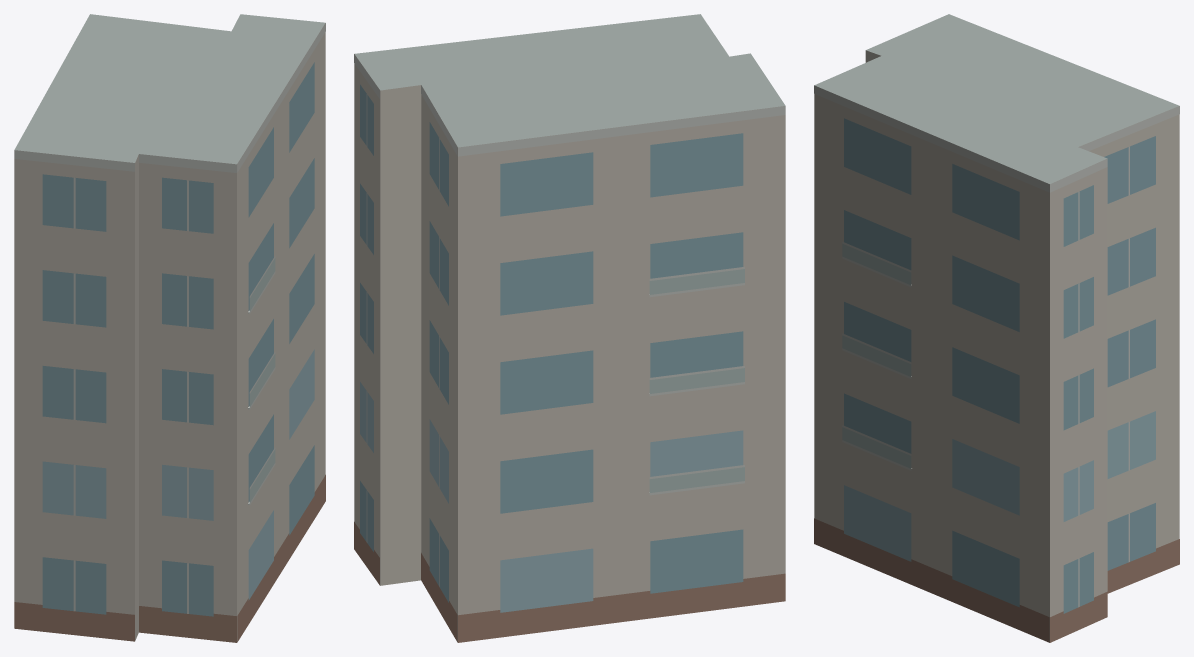
The model's file is survey-upis-32972527.glb.
3 renders of one model, left to right at view 1: azimuth 30°, elevation 25°; view 2: azimuth 150°, elevation 25°; view 3: azimuth 270°, elevation 25°, orthographic. The views are drawn at different scales.
Parts seen in each view (by area): view 1: survey-upis-32972527.tmp; view 2: survey-upis-32972527.tmp; view 3: survey-upis-32972527.tmp.
Part boxes in pixels (<box>): survey-upis-32972527.tmp: <box>14,14,325,642</box>; survey-upis-32972527.tmp: <box>354,14,785,642</box>; survey-upis-32972527.tmp: <box>814,14,1179,642</box>.
Bounding box in the file's own units: 10.56 × 13.25 × 9.58.
